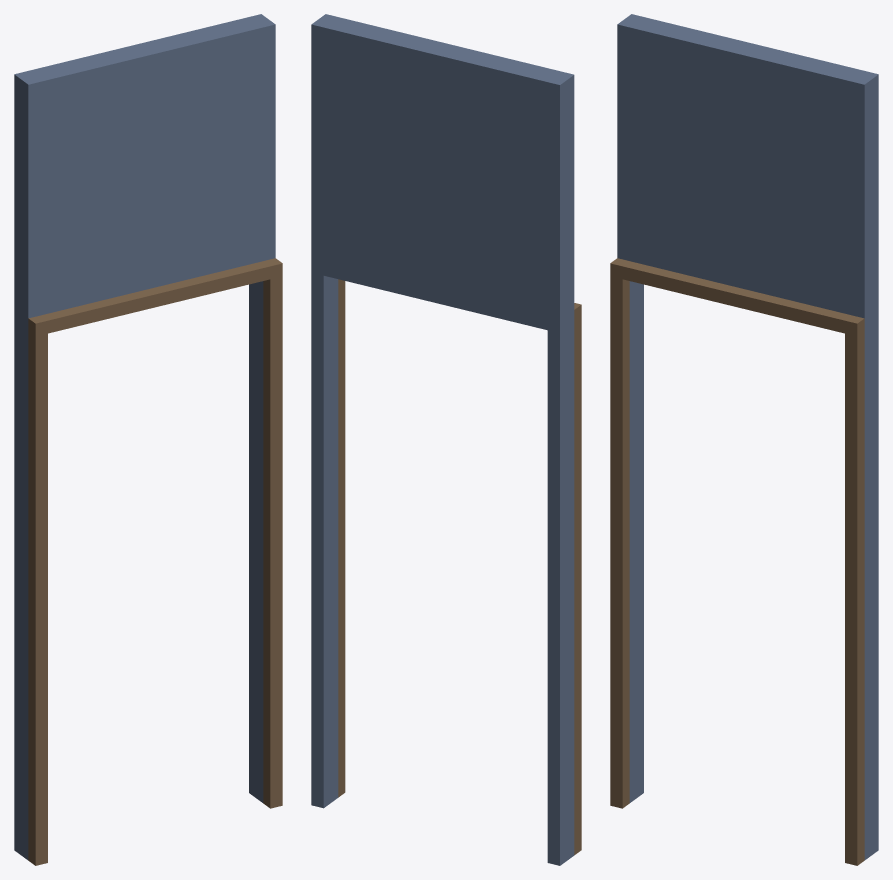
File: Mesh_DoorHole_05.fbx
The picture shows the model from 3 angles, left to right: view 1: azimuth 30°, elevation 25°; view 2: azimuth 150°, elevation 25°; view 3: azimuth 330°, elevation 25°; orthographic projection.
Visible parts, largest first — view 1: Mesh_DoorHole_05; view 2: Mesh_DoorHole_05; view 3: Mesh_DoorHole_05.
Part boxes in pixels (bbox=[...]): Mesh_DoorHole_05: bbox=[14, 14, 282, 865]; Mesh_DoorHole_05: bbox=[311, 14, 581, 865]; Mesh_DoorHole_05: bbox=[610, 14, 878, 865].
Bounding box in the file's own units: 1 × 3 × 0.15.
